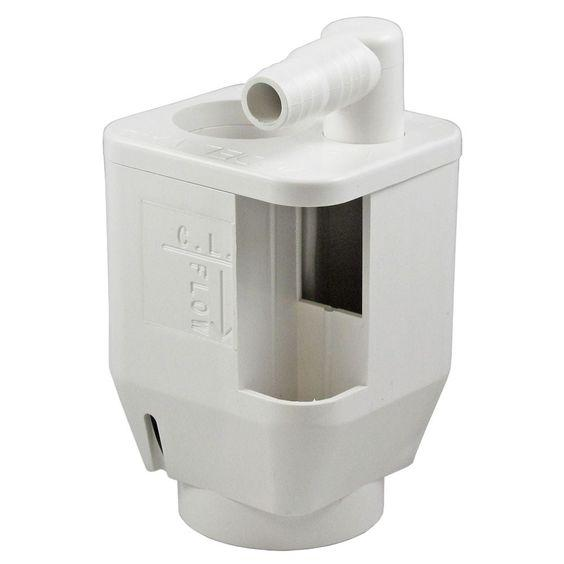PVC: (100, 78, 461, 551), (240, 17, 405, 139)
